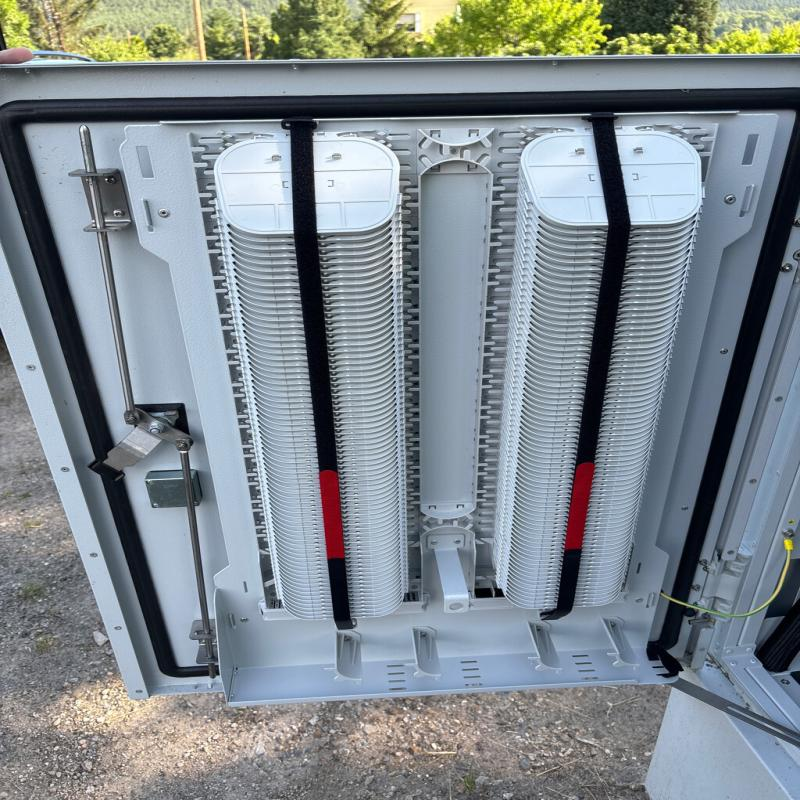NT-Gehause: (0, 62, 798, 800)
Spleiskassetten: (172, 122, 423, 639), (485, 112, 740, 620)
